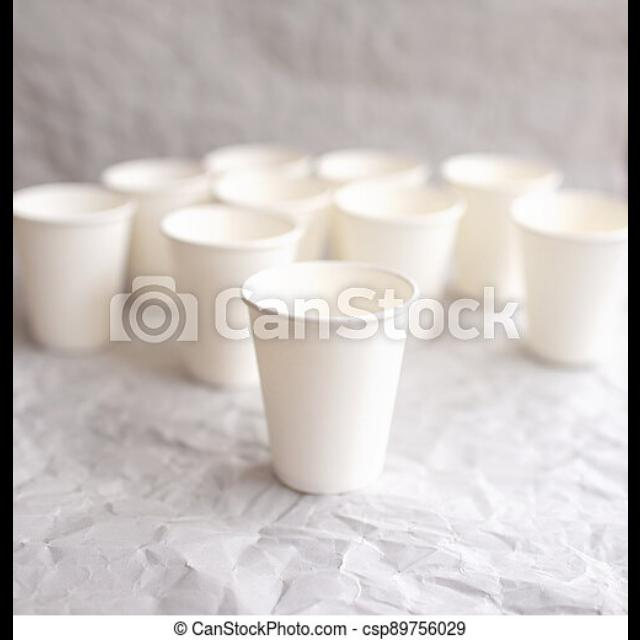trash: (237, 260, 413, 492)
